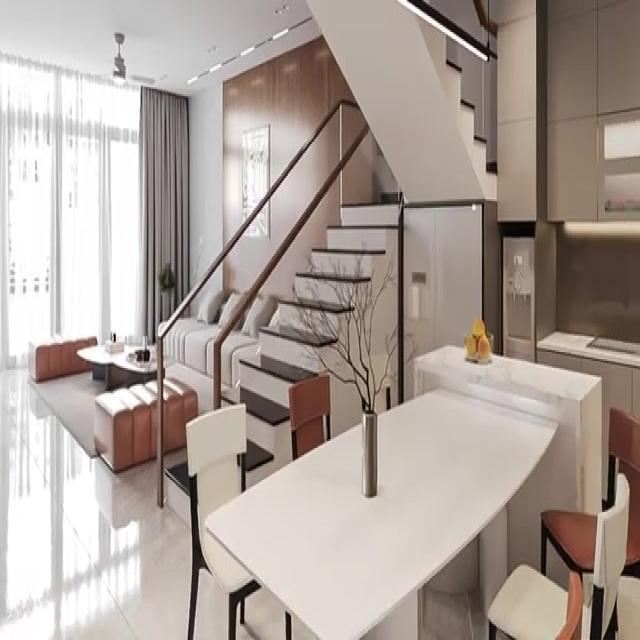obstacle: (204, 384, 559, 638), (185, 402, 292, 640), (486, 471, 631, 640)
